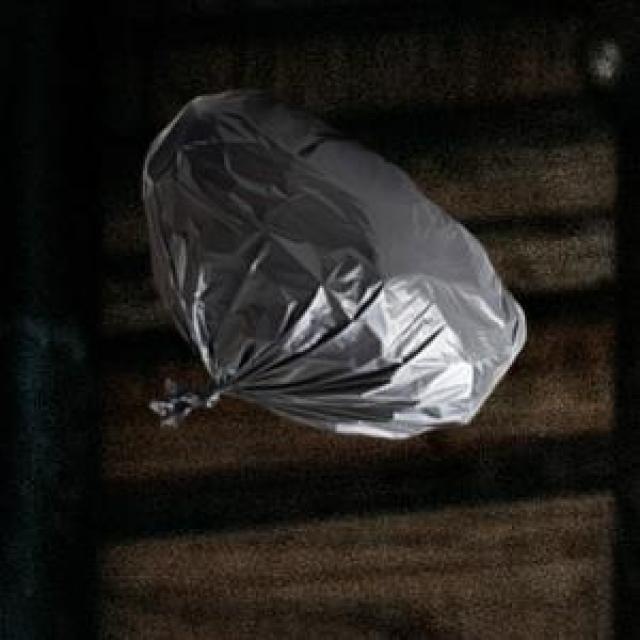garbage_bag: (135, 81, 532, 443)
